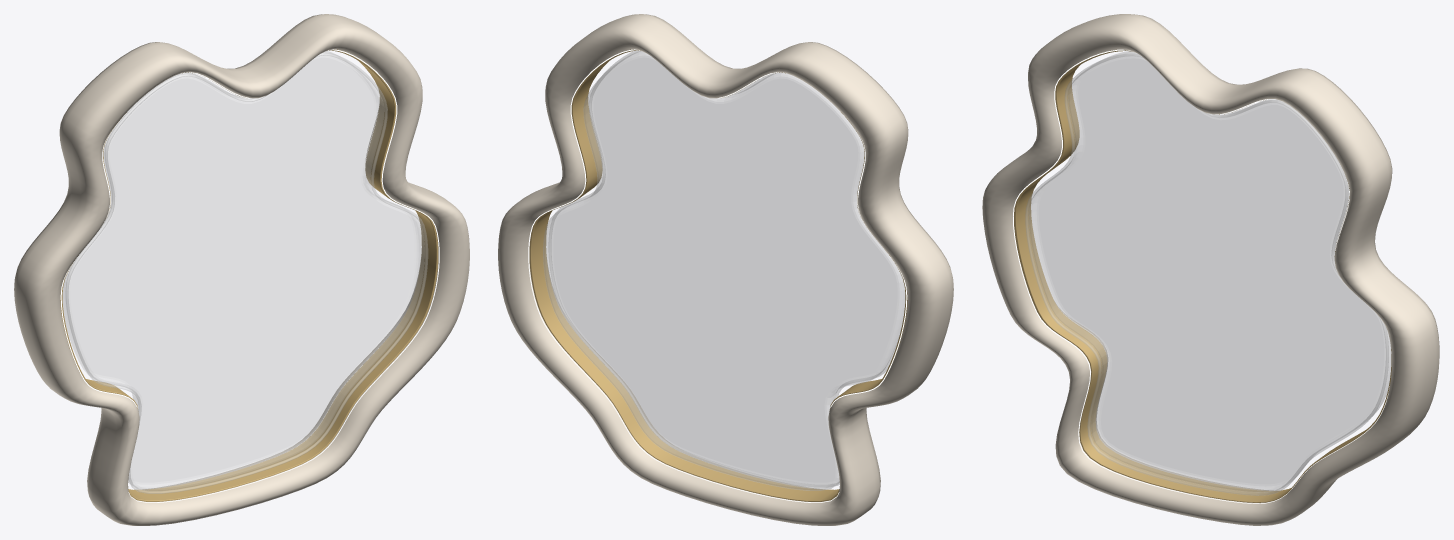
File: cloud.glb
The picture shows the model from 3 angles, left to right: view 1: azimuth 30°, elevation 25°; view 2: azimuth 150°, elevation 25°; view 3: azimuth 330°, elevation 25°; orthographic projection.
Parts seen in each view (by area): view 1: Slab_Glass.004, Fixed_GlassFrame.004, Fixed_ChampagneReveal.004, Slab_PolishedEdge.004, Fixed_InnerLight_Front.004; view 2: Slab_Glass.004, Fixed_GlassFrame.004, Fixed_ChampagneReveal.004, Slab_PolishedEdge.004, Fixed_InnerLight_Back.004; view 3: Slab_Glass.004, Fixed_GlassFrame.004, Fixed_ChampagneReveal.004, Slab_PolishedEdge.004, Fixed_InnerLight_Front.004.
Part boxes in pixels (box(x1,y1,x2,y2)): Slab_Glass.004: box(63, 51, 424, 490); Fixed_GlassFrame.004: box(14, 14, 469, 525); Fixed_ChampagneReveal.004: box(60, 49, 438, 501); Slab_PolishedEdge.004: box(65, 52, 427, 493); Fixed_InnerLight_Front.004: box(60, 49, 439, 502); Slab_Glass.004: box(543, 51, 904, 490); Fixed_GlassFrame.004: box(498, 14, 953, 525); Fixed_ChampagneReveal.004: box(529, 49, 907, 501); Slab_PolishedEdge.004: box(548, 51, 898, 487); Fixed_InnerLight_Back.004: box(528, 49, 907, 502); Slab_Glass.004: box(1029, 51, 1390, 492); Fixed_GlassFrame.004: box(982, 14, 1439, 525); Fixed_ChampagneReveal.004: box(1014, 50, 1391, 502); Slab_PolishedEdge.004: box(1025, 53, 1388, 495); Fixed_InnerLight_Front.004: box(1013, 49, 1389, 503).
Size of the model in its own units: 2.81 by 2.86 by 0.3539.
